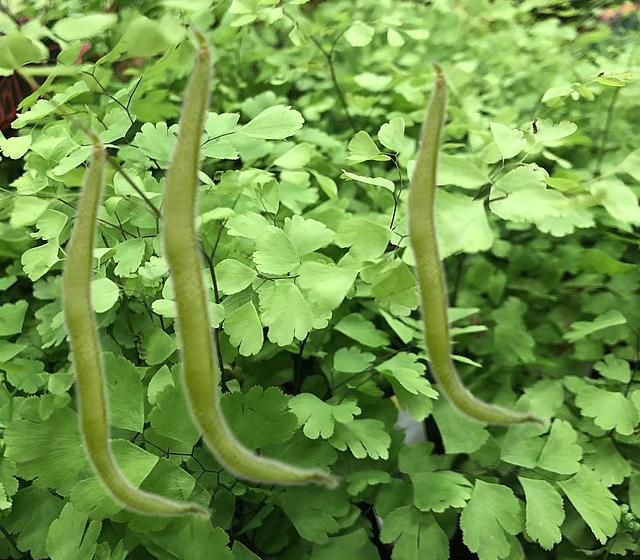french_bean: (155, 23, 342, 491), (57, 126, 214, 521), (402, 57, 550, 430)
